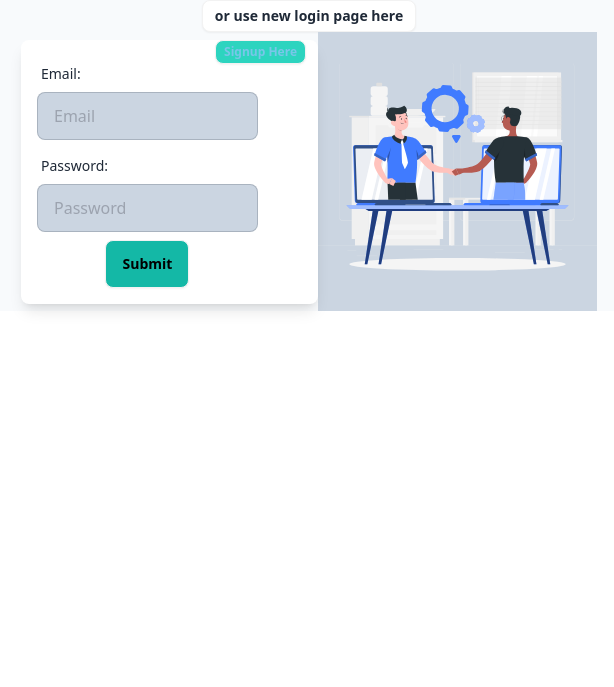
Test: group › should display signup form when clicked
What coordinates should you click on to do the following:
click the text "Signup Here"
I would click on:
 (261, 52)
Its box is [224,46,297,58].
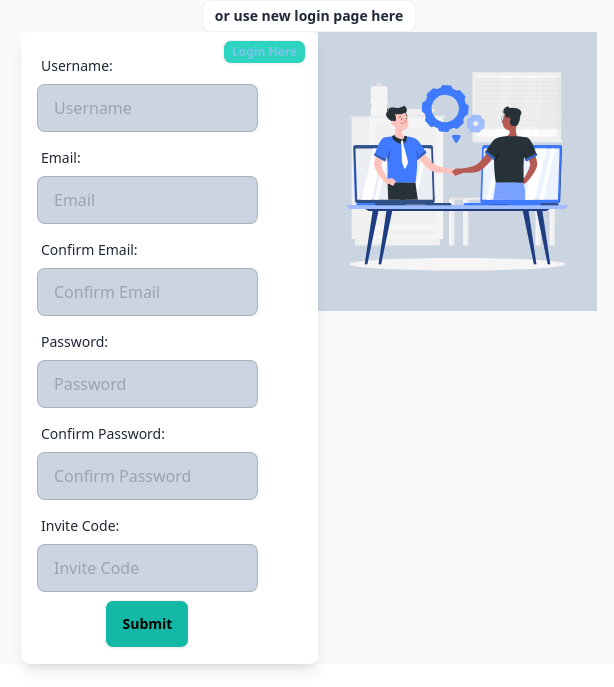
Now the number of fields with placeholder "Email" is 2, box [37,176,258,224]; [37,268,258,316]
Now the number of password fields with placeholder "Password" is 2, box [37,360,258,408]; [37,452,258,500]
